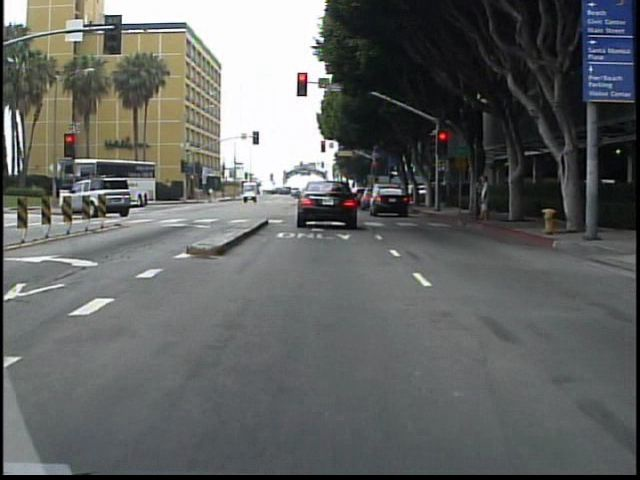person: (473, 169, 493, 222)
